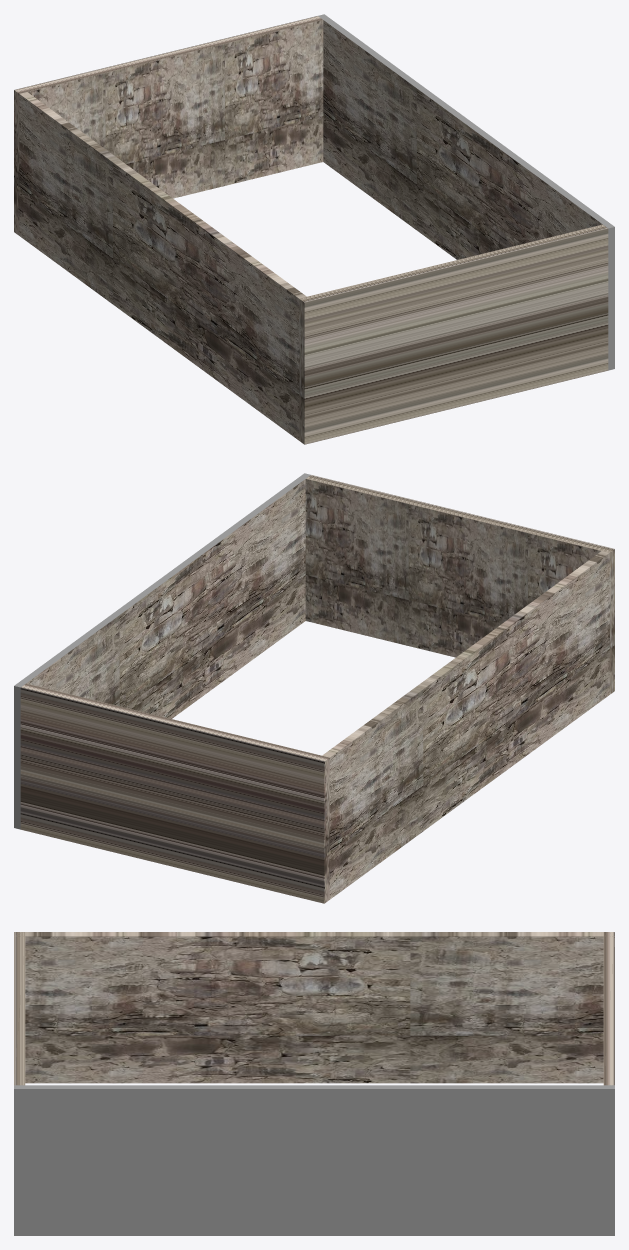
Rendered from ChurchBasementWallWhole.fbx.
3 views of the same model, one above another, from view 1: azimuth 30°, elevation 25°; view 2: azimuth 150°, elevation 25°; view 3: azimuth 270°, elevation 25° (orthographic). The views are drawn at different scales.
Visible parts, largest first — view 1: ChurchBasementWall; view 2: ChurchBasementWall; view 3: ChurchBasementWall.
Part boxes in pixels (left/top/right/bottom): ChurchBasementWall: left=14, top=14, right=614, bottom=444; ChurchBasementWall: left=14, top=473, right=614, bottom=903; ChurchBasementWall: left=14, top=932, right=614, bottom=1235.
Size of the model in its own units: 68.46 by 29.95 by 111.
